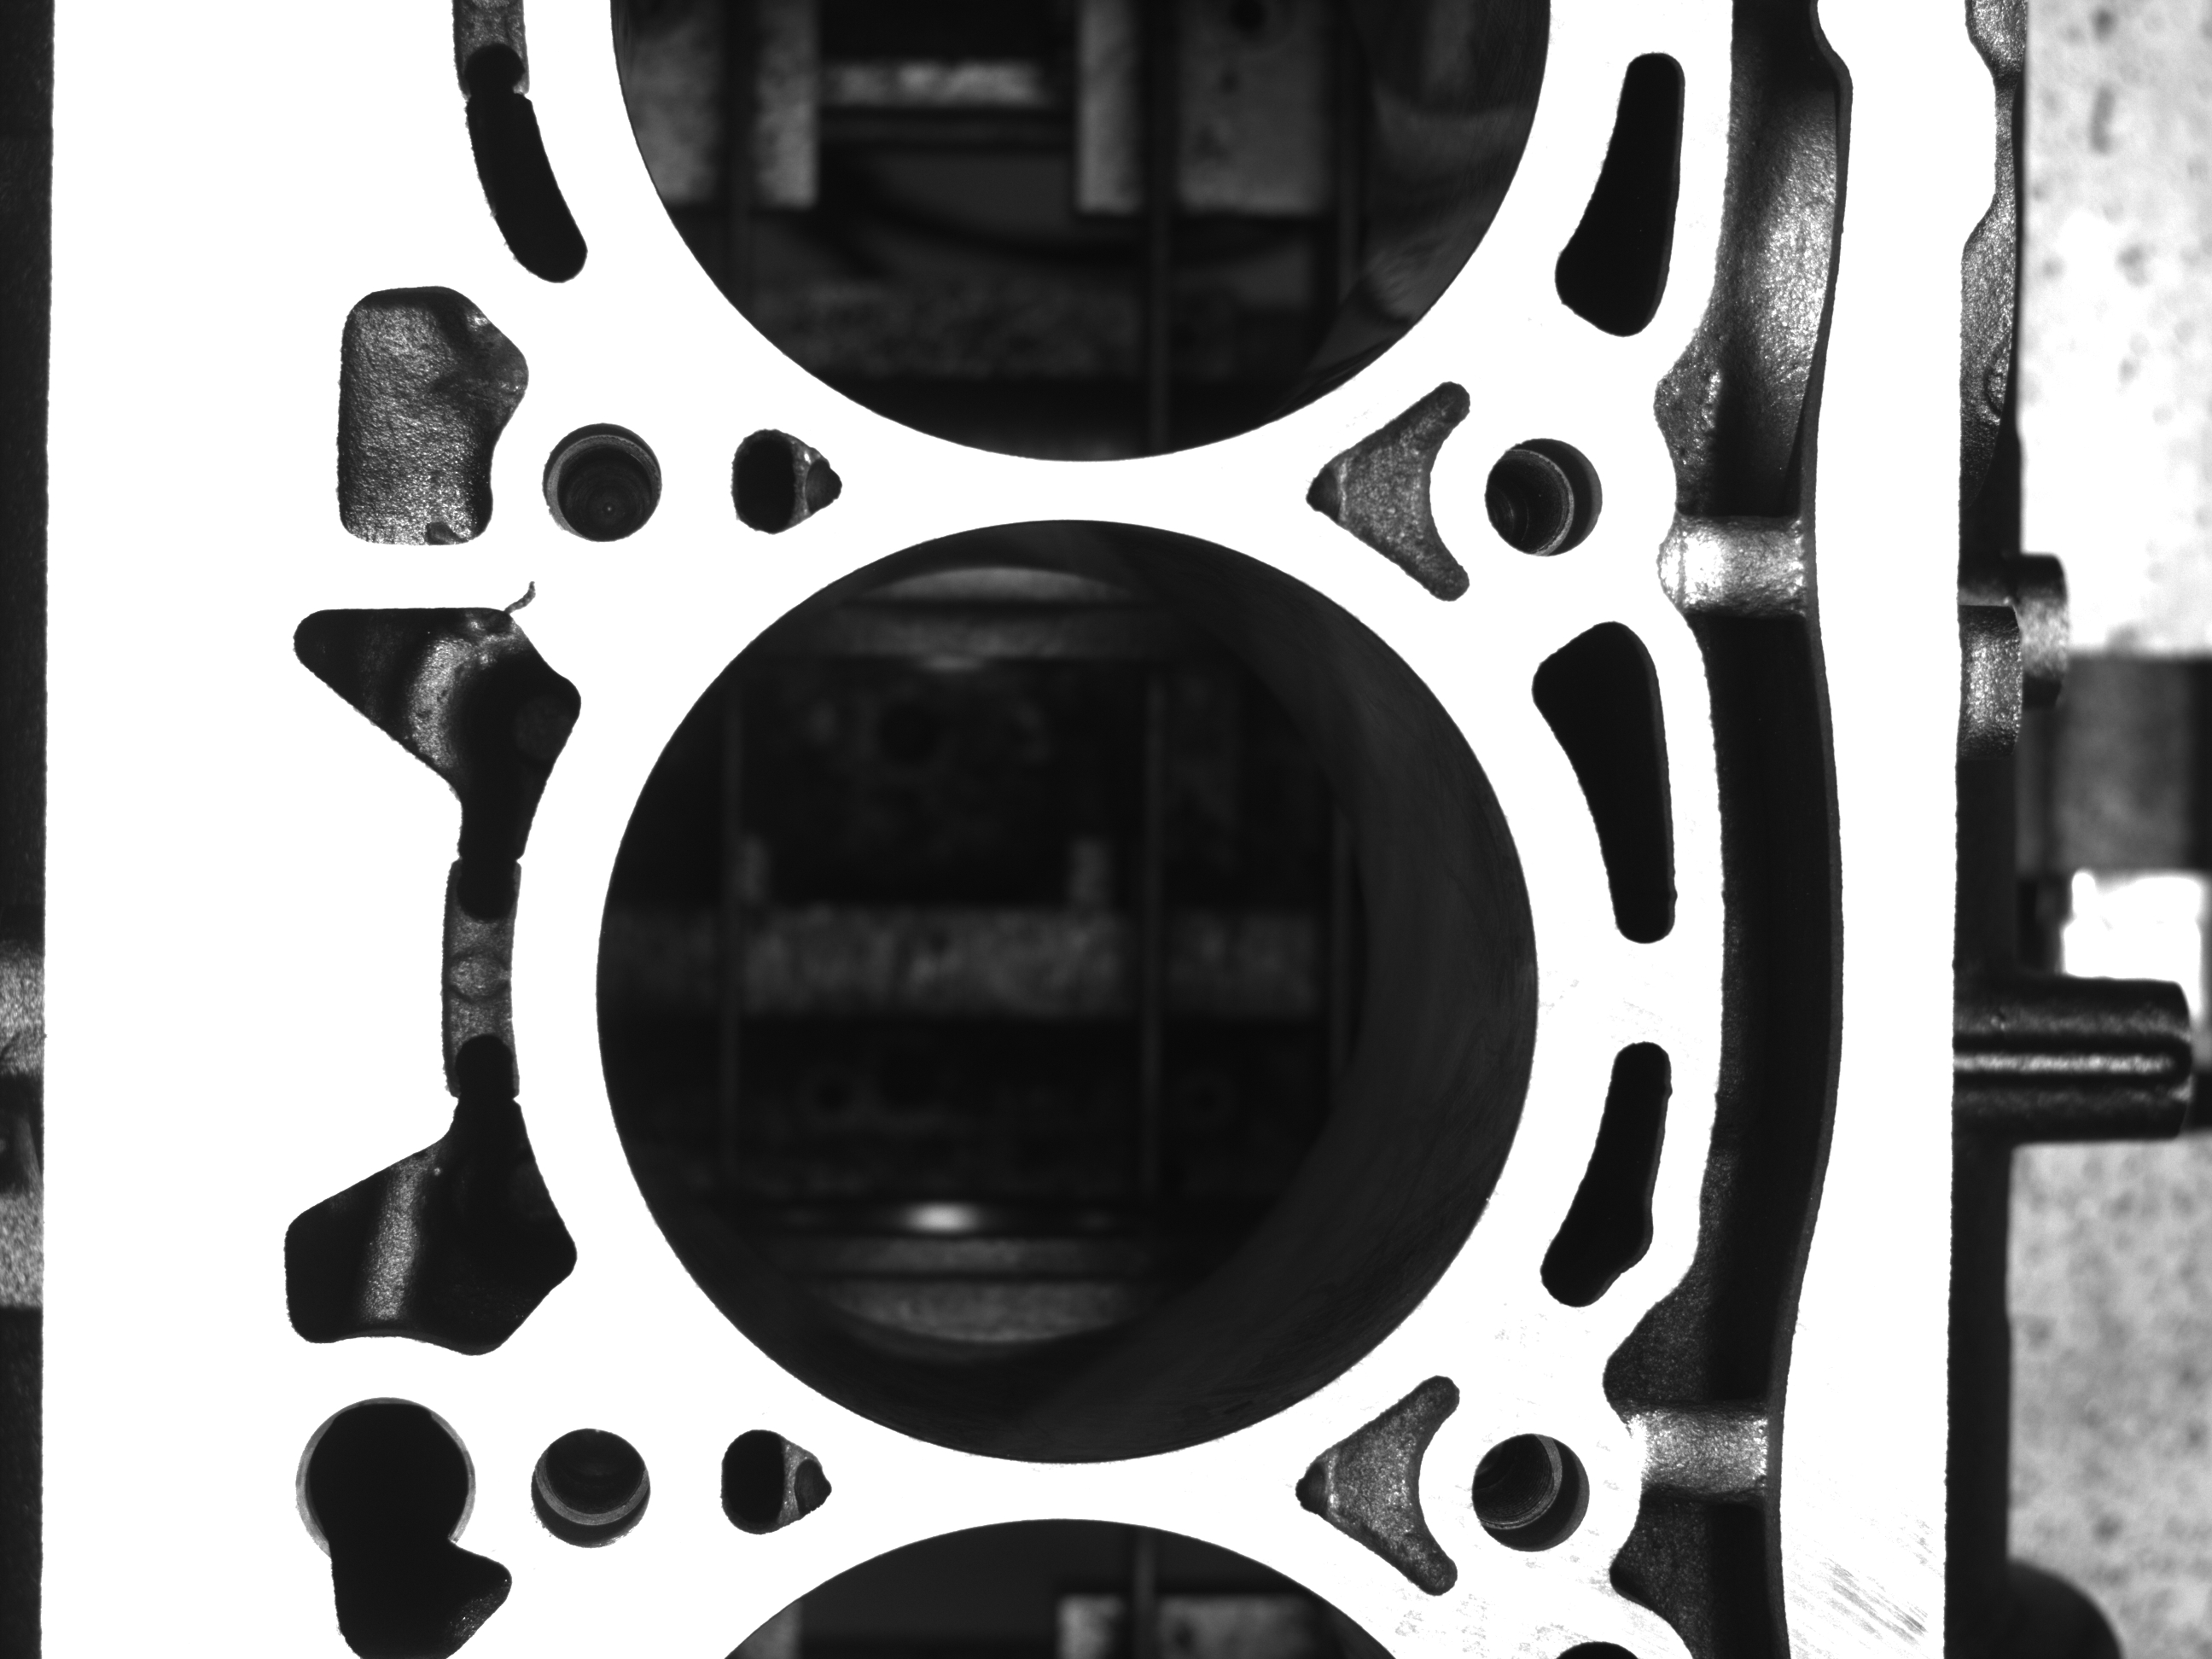shrinkage: (258, 579, 608, 1378)
